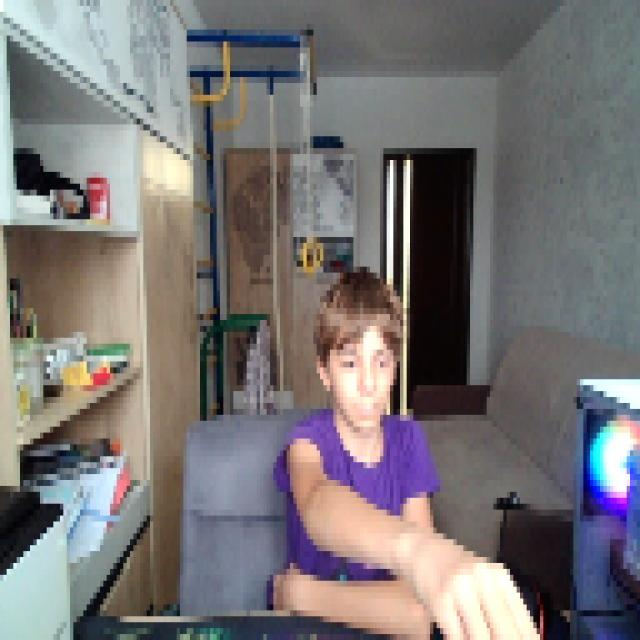left_click: (430, 551, 537, 634)
